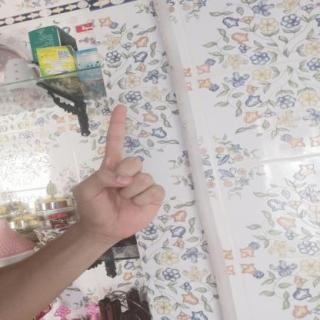BAA: (59, 97, 174, 249)
